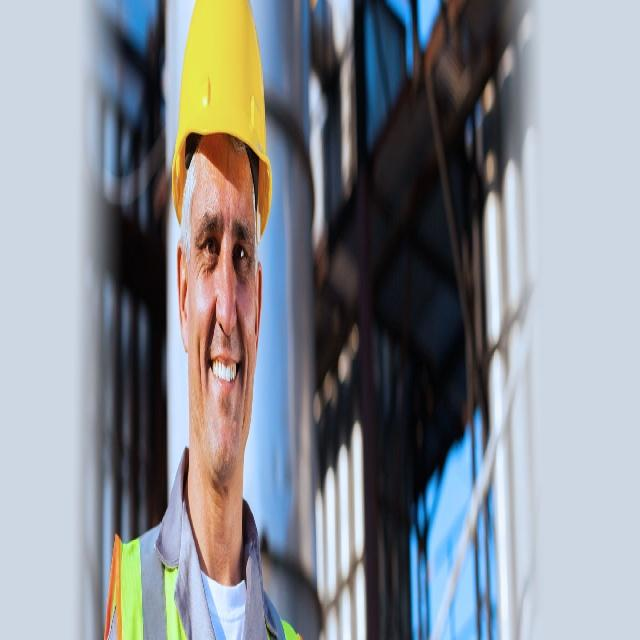helmet: (170, 3, 274, 609)
